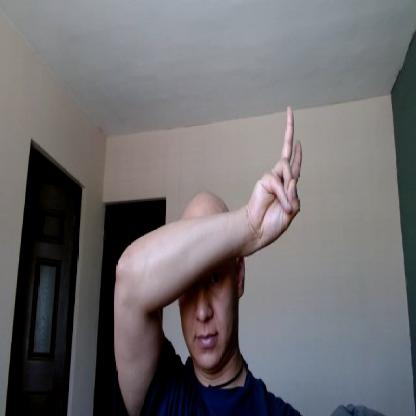V: (251, 104, 305, 249)
